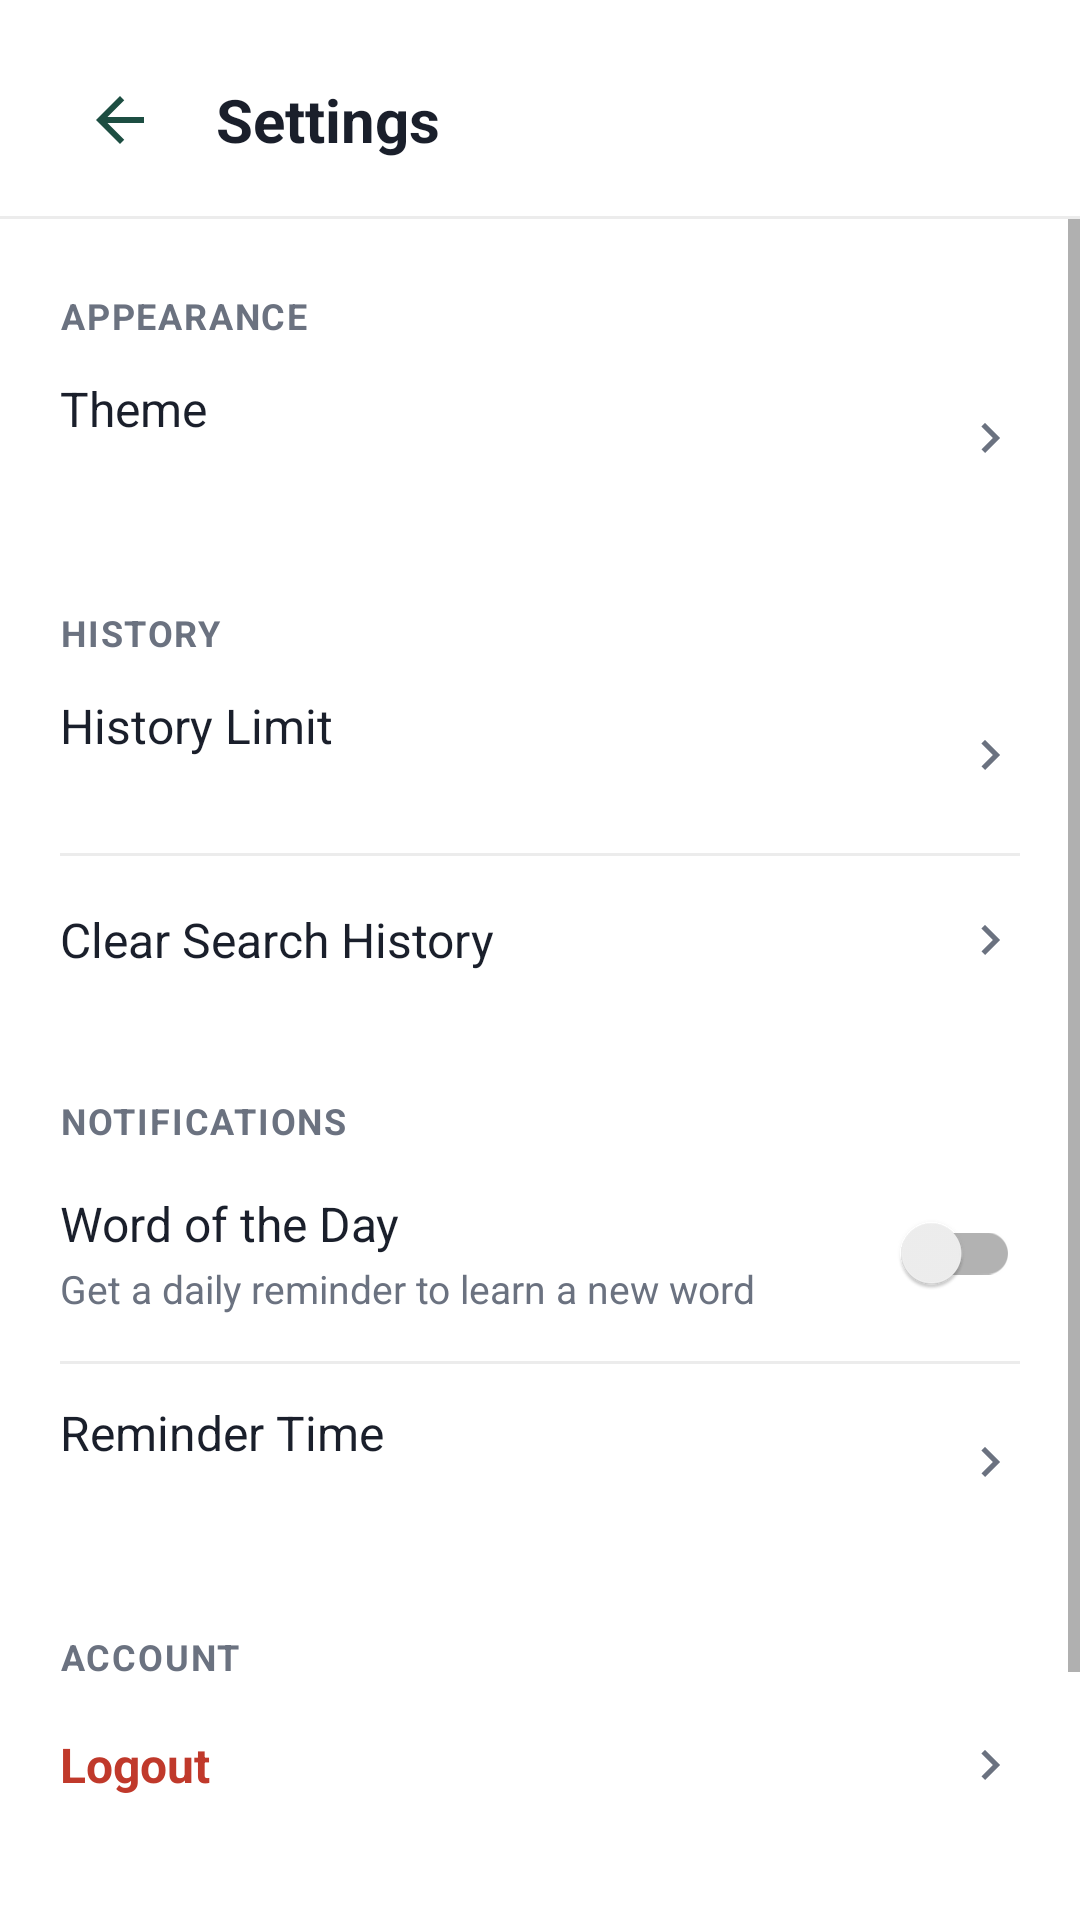

Where icons sit on this 1080x1920 app screen, as bbox=[x1, y1, x2, y2]:
Back: bbox=[96, 96, 144, 144]
chevron right: bbox=[981, 423, 1000, 453], bbox=[981, 740, 1000, 770], bbox=[981, 925, 1000, 955], bbox=[981, 1447, 1000, 1477], bbox=[981, 1750, 1000, 1780]
